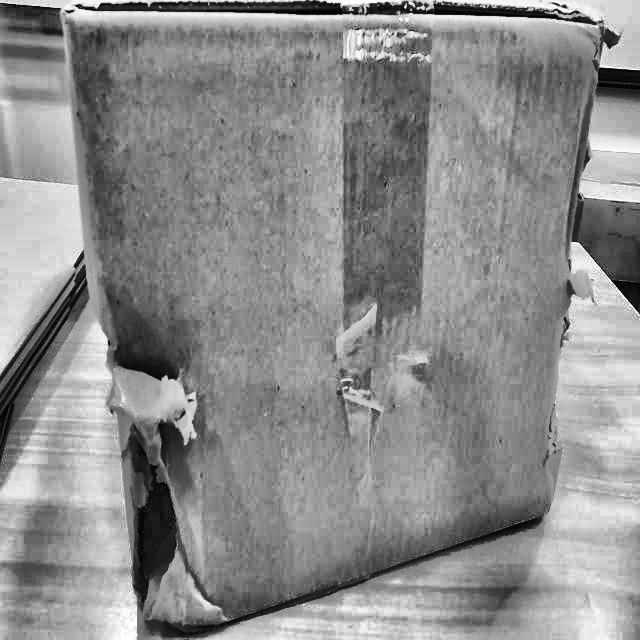box: (53, 0, 621, 639)
hole: (108, 385, 186, 629)
